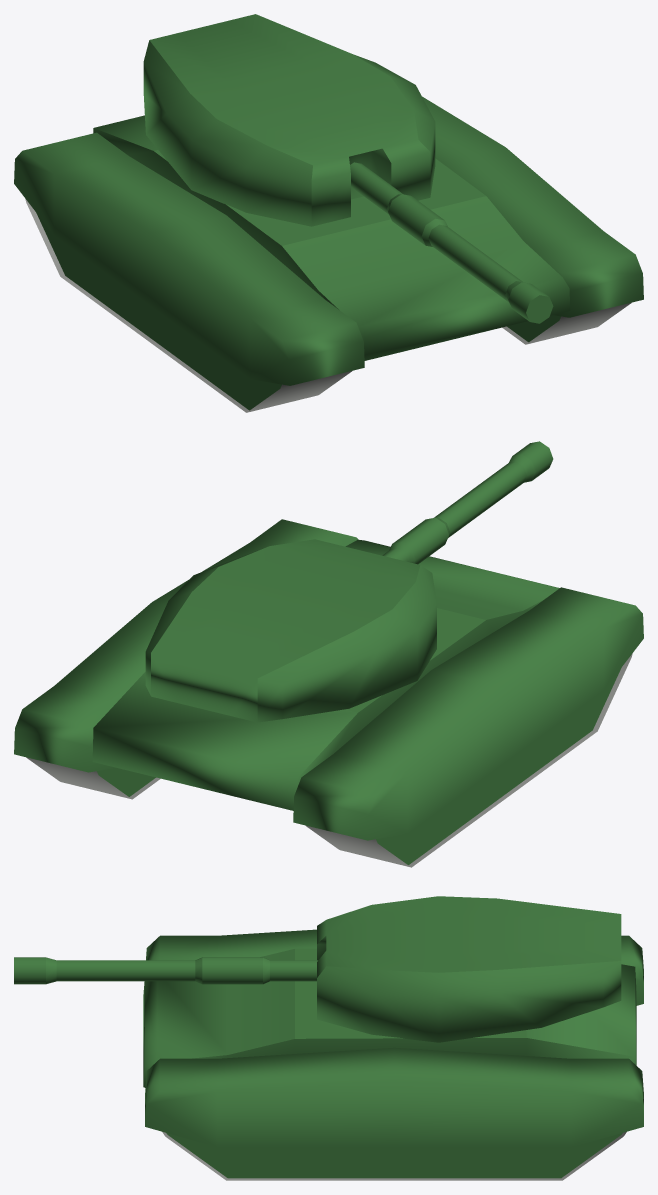
Rendered from Support unit tank.fbx.
3 renders of one model, top to bottom at view 1: azimuth 30°, elevation 25°; view 2: azimuth 150°, elevation 25°; view 3: azimuth 270°, elevation 25°, orthographic. The views are drawn at different scales.
Parts seen in each view (by area): view 1: Cylinder.005, Cylinder.017, Cylinder.020, Cylinder.019, Cylinder.018; view 2: Cylinder.005, Cylinder.017, Cylinder.020, Cylinder.019, Cylinder.018; view 3: Cylinder.019, Cylinder.017, Cylinder.020, Cylinder.018, Cylinder.005.
Part boxes in pixels (x1=…): Cylinder.005: x1=14, y1=132, x2=364, y2=412; Cylinder.017: x1=143, y1=14, x2=435, y2=226; Cylinder.020: x1=93, y1=115, x2=570, y2=360; Cylinder.019: x1=422, y1=96, x2=643, y2=344; Cylinder.018: x1=350, y1=162, x2=553, y2=323; Cylinder.005: x1=293, y1=587, x2=643, y2=867; Cylinder.017: x1=145, y1=539, x2=436, y2=722; Cylinder.020: x1=92, y1=539, x2=559, y2=810; Cylinder.019: x1=14, y1=519, x2=358, y2=799; Cylinder.018: x1=382, y1=441, x2=553, y2=564; Cylinder.019: x1=145, y1=1047, x2=643, y2=1180; Cylinder.017: x1=317, y1=896, x2=621, y2=1042; Cylinder.020: x1=143, y1=948, x2=636, y2=1087; Cylinder.018: x1=14, y1=957, x2=317, y2=984; Cylinder.005: x1=146, y1=929, x2=643, y2=1005.
Bounding box in the file's own units: 537 × 271 × 917.
